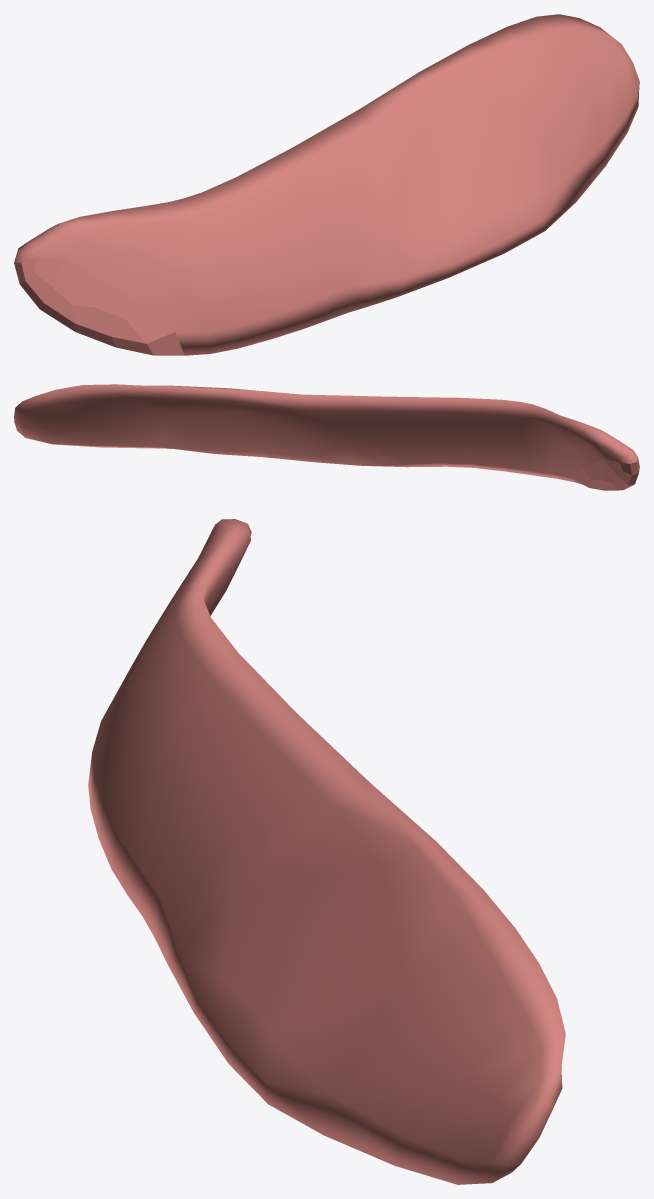
3 renders of one model, top to bottom at view 1: azimuth 30°, elevation 25°; view 2: azimuth 150°, elevation 25°; view 3: azimuth 270°, elevation 25°, orthographic. The views are drawn at different scales.
Parts seen in each view (by area): view 1: ZA_f5bca74a1fc4ccc0; view 2: ZA_f5bca74a1fc4ccc0; view 3: ZA_f5bca74a1fc4ccc0.
Part boxes in pixels (x1,y1,x2,y2): ZA_f5bca74a1fc4ccc0: (14, 14, 639, 355); ZA_f5bca74a1fc4ccc0: (14, 384, 639, 490); ZA_f5bca74a1fc4ccc0: (88, 519, 565, 1184).
Size of the model in its own units: 0.0157 by 0.00297 by 0.0059.
